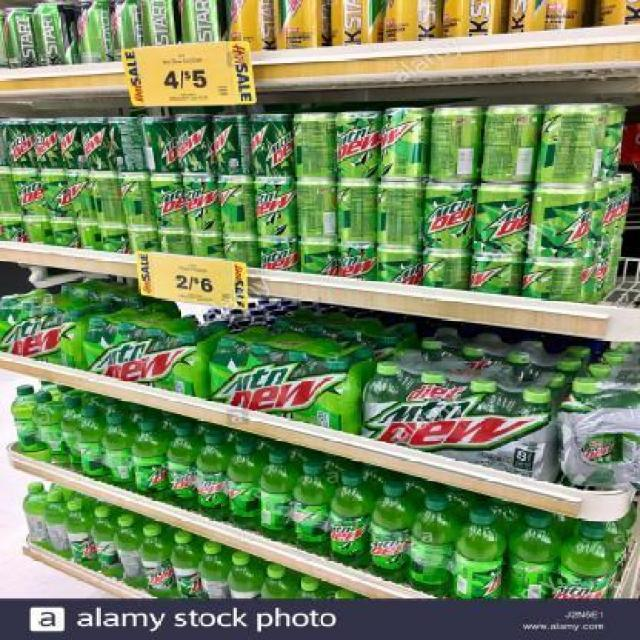Drinks: (362, 382, 550, 453), (209, 360, 347, 414), (536, 104, 610, 186), (86, 335, 197, 386), (532, 183, 596, 261), (452, 506, 506, 598), (481, 105, 541, 185), (372, 479, 416, 587), (411, 494, 455, 598), (509, 510, 561, 598), (329, 469, 373, 569), (292, 461, 336, 557), (475, 183, 532, 257), (562, 521, 616, 598), (430, 107, 484, 183), (378, 107, 430, 181), (0, 311, 80, 359), (259, 448, 299, 540), (424, 182, 476, 251), (228, 439, 265, 531), (335, 113, 383, 179), (378, 180, 424, 248), (32, 391, 72, 468), (175, 114, 221, 176), (250, 114, 294, 177), (138, 523, 174, 599), (294, 113, 336, 177), (166, 423, 197, 509), (197, 431, 228, 517), (63, 498, 100, 570), (90, 505, 127, 577), (254, 176, 296, 238), (296, 178, 338, 240), (102, 412, 133, 492), (133, 418, 164, 498), (213, 115, 253, 177), (525, 262, 583, 304), (113, 513, 145, 589), (338, 180, 376, 243), (75, 405, 106, 482), (108, 117, 150, 173), (43, 489, 75, 557), (151, 173, 189, 229), (182, 175, 220, 231), (218, 176, 255, 233), (141, 116, 178, 173), (172, 530, 203, 598), (78, 118, 116, 172), (119, 172, 156, 226), (471, 257, 525, 294), (13, 169, 53, 218), (89, 171, 126, 223), (422, 251, 470, 291), (3, 119, 39, 170), (59, 396, 82, 473), (23, 481, 49, 549), (41, 168, 75, 219), (66, 169, 100, 220), (377, 247, 421, 284), (57, 118, 88, 170), (10, 385, 32, 456), (298, 240, 338, 276), (29, 119, 57, 170), (338, 245, 376, 281), (257, 239, 297, 273)
